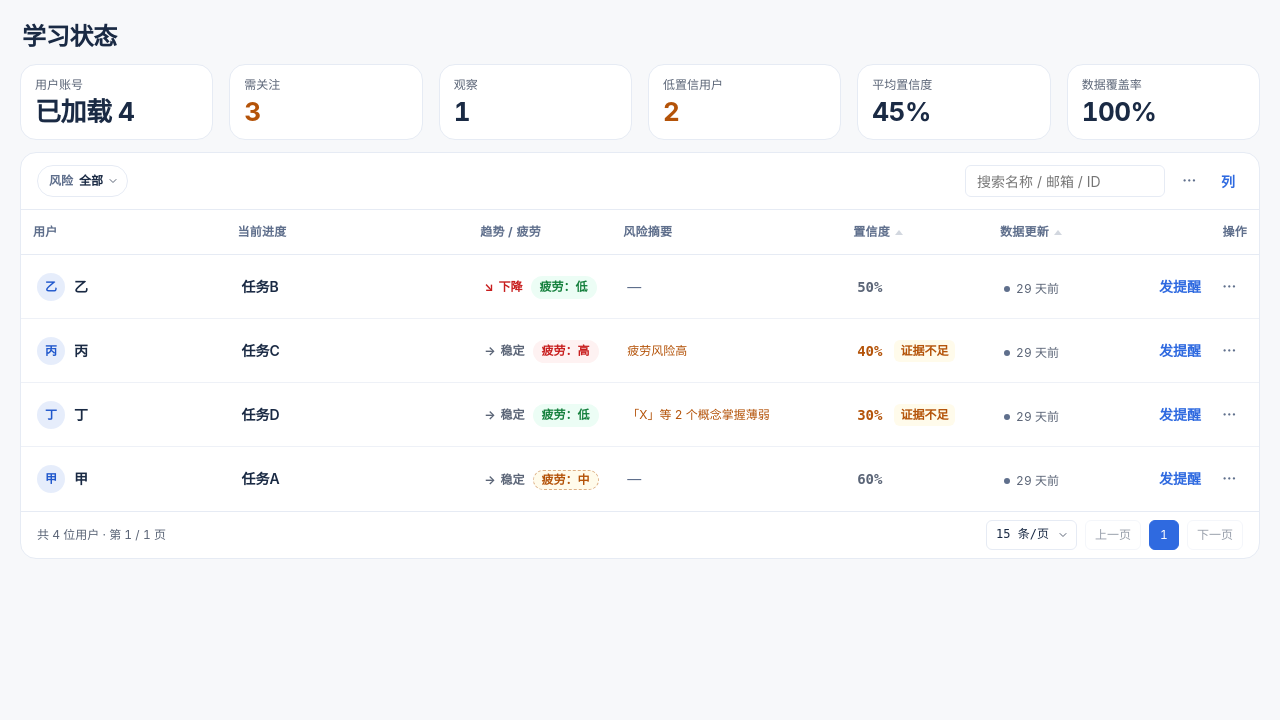
Test case: LearnerCenter 告警拆档与口径（P1#16/17 + P2） › 发送提醒成功 → 页内结果条 + 「查看通知」指向 ops-hub?tab=inapp&userId=
The width and height of the screenshot is (1280, 720).
Click the button "发提醒" in the row of "任务B": (1180, 287) [1153,271,1207,302]
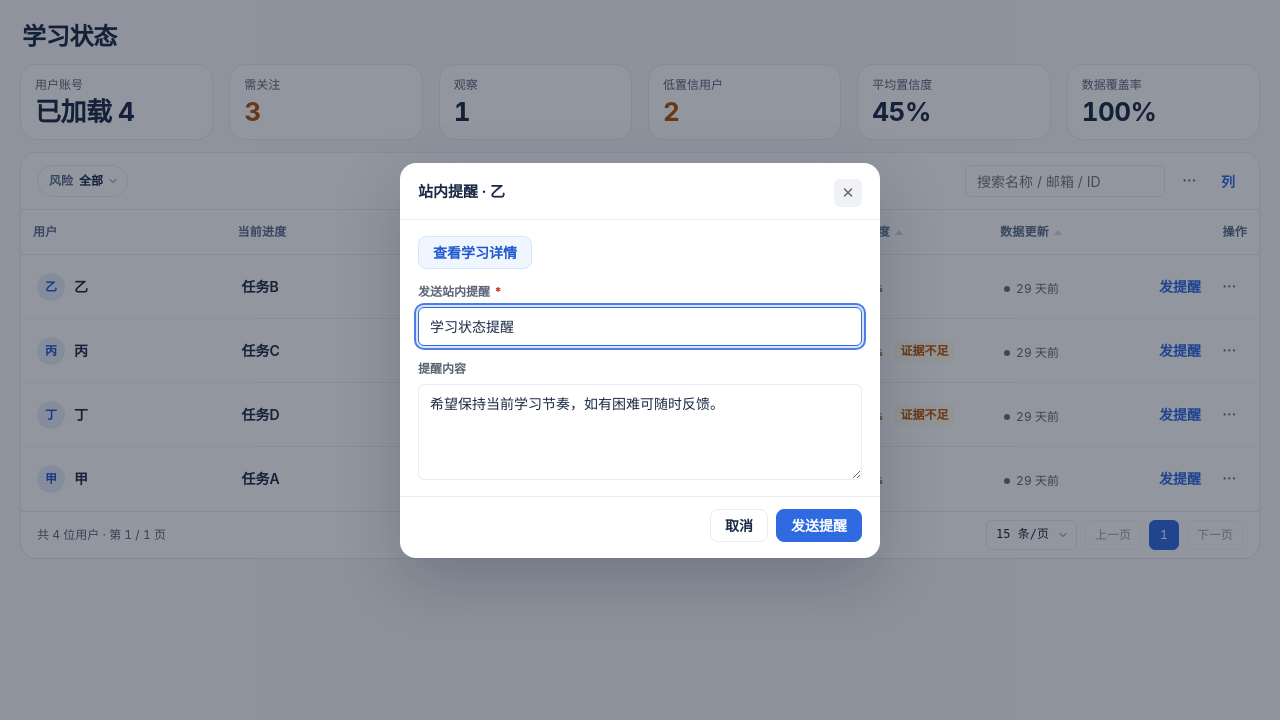
// 标题已预填，直接发送
Click the button "发送提醒": (819, 525) [776,508,862,542]
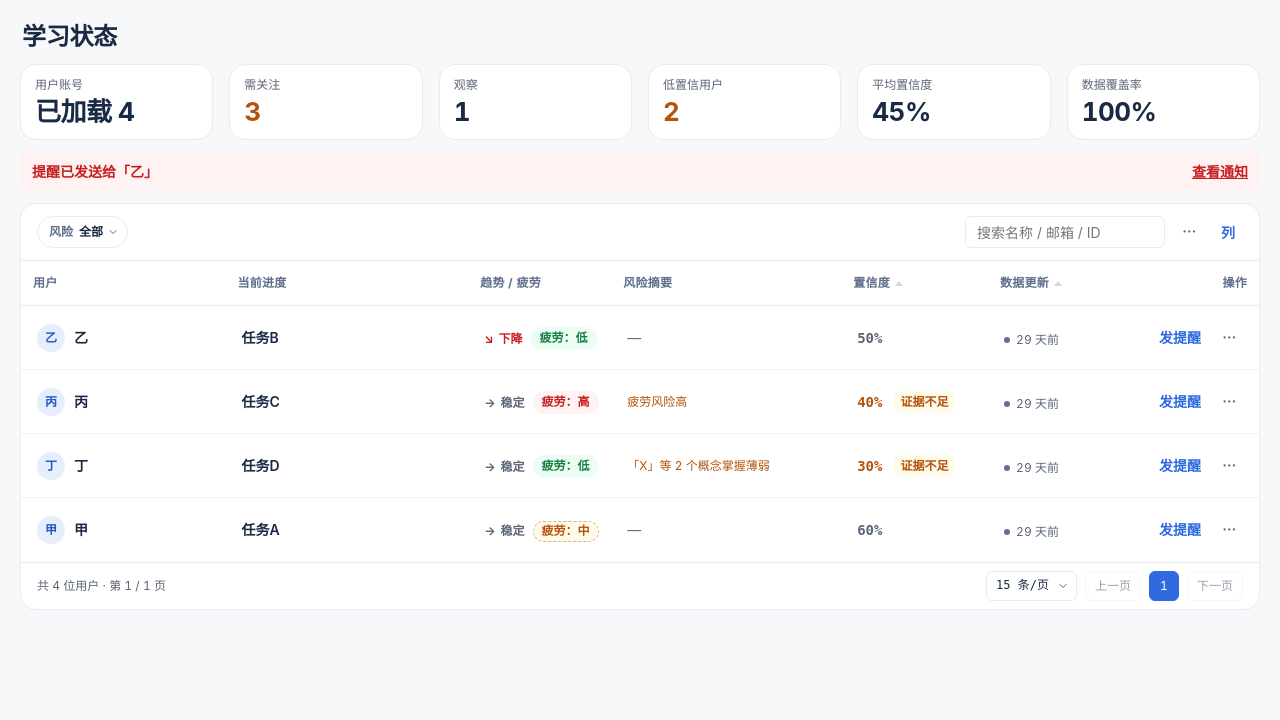
Now the message with class "mk-alert--row" shows "提醒已发送给「乙」", box [32,163,158,180]
